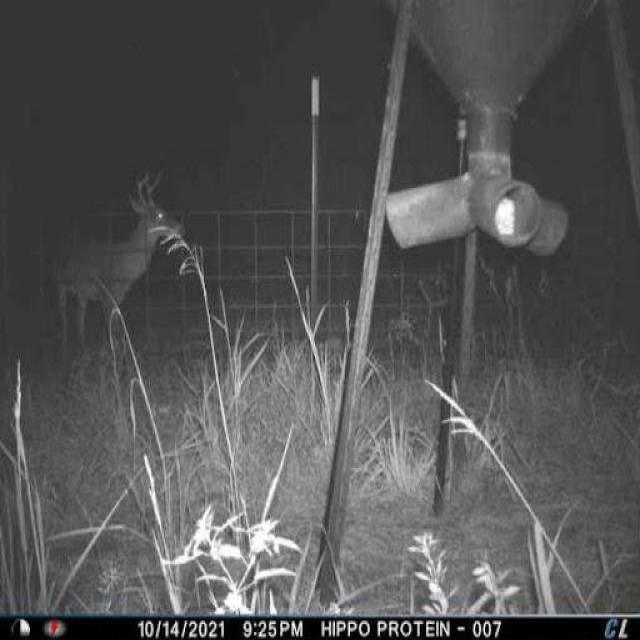deer: (45, 162, 181, 385)
